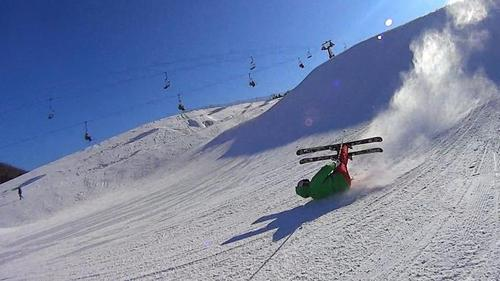fall: (281, 128, 392, 206)
